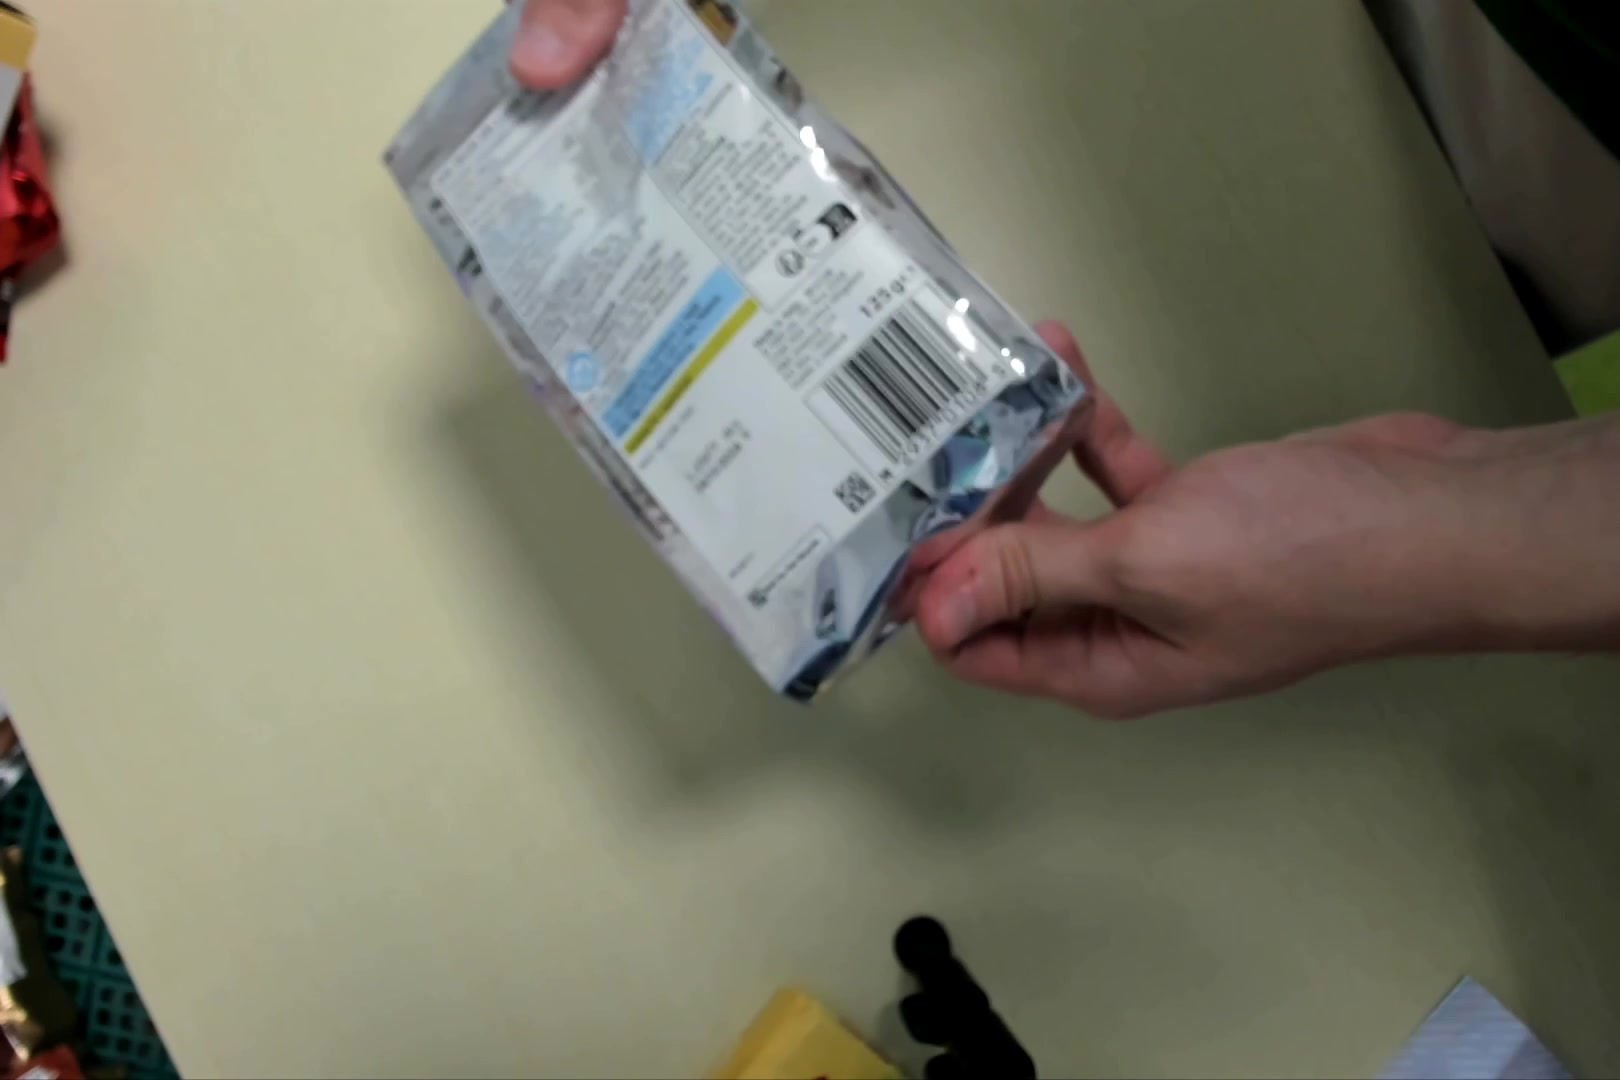SweetsChocolatesOthers_100-199g_NonHalal_NonHealthy: (378, 1, 1090, 715)
